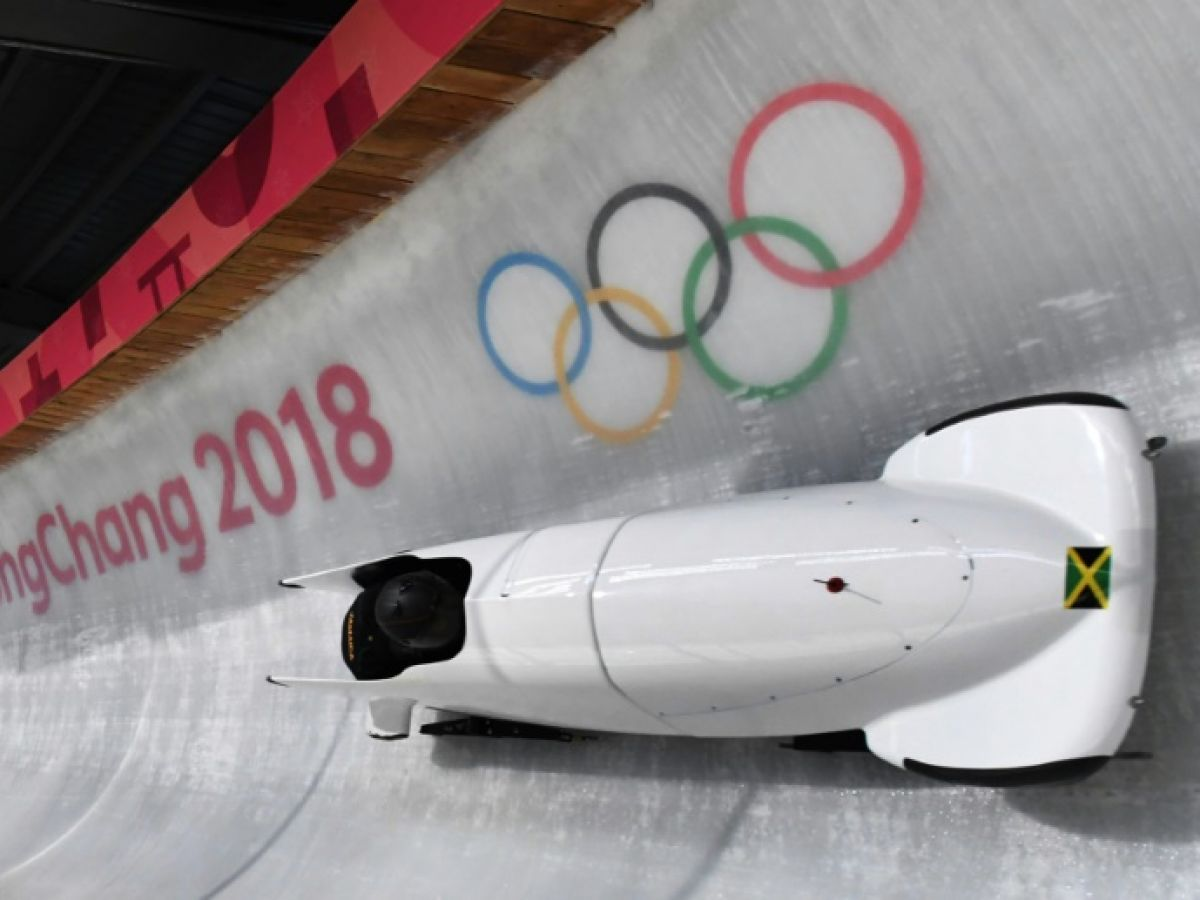Bobsleigh: (279, 395, 1159, 783)
